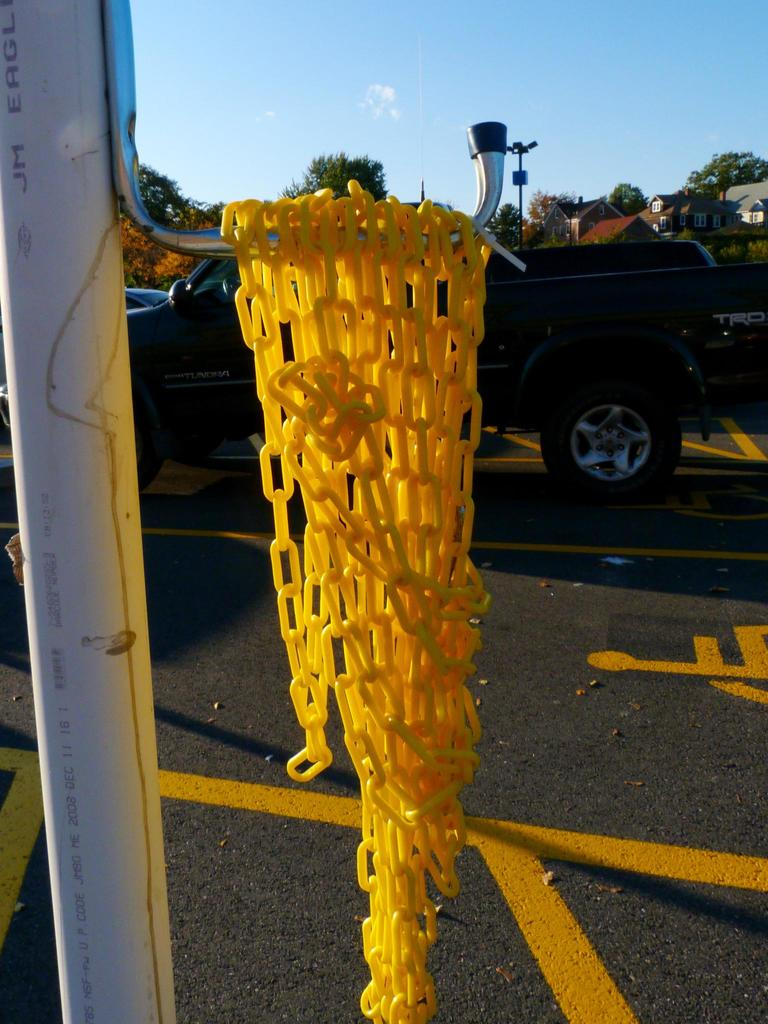Car: (128, 240, 740, 494)
